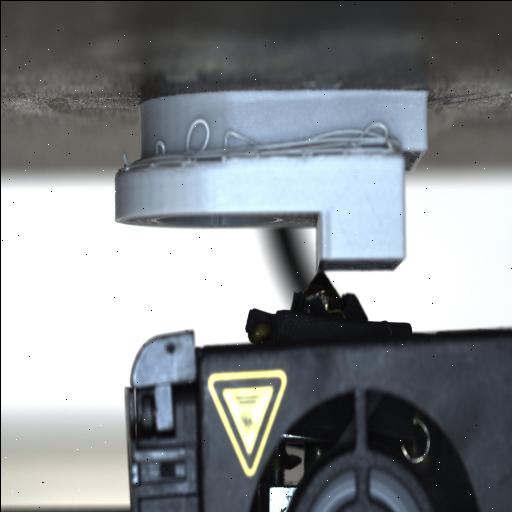layer_shift: (114, 142, 428, 174)
